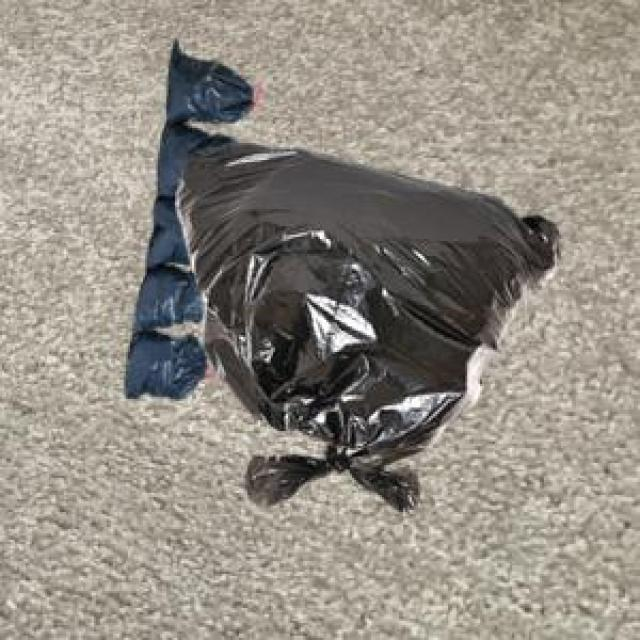Vinyl: (193, 92, 549, 458), (126, 268, 210, 410), (166, 44, 252, 130), (124, 331, 208, 399)
